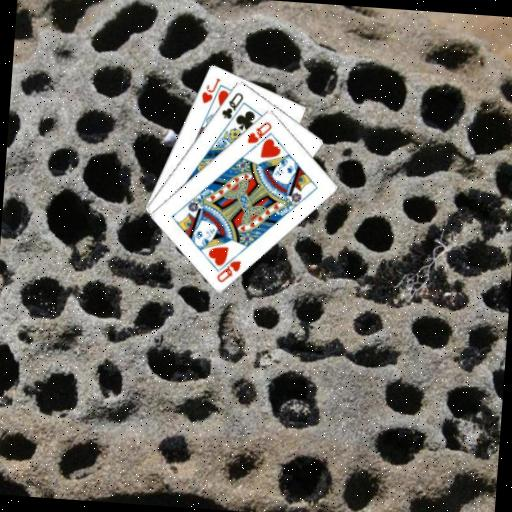JH: (198, 73, 222, 106)
QC: (218, 88, 246, 121)
QH: (213, 248, 244, 285), (244, 117, 273, 146)
